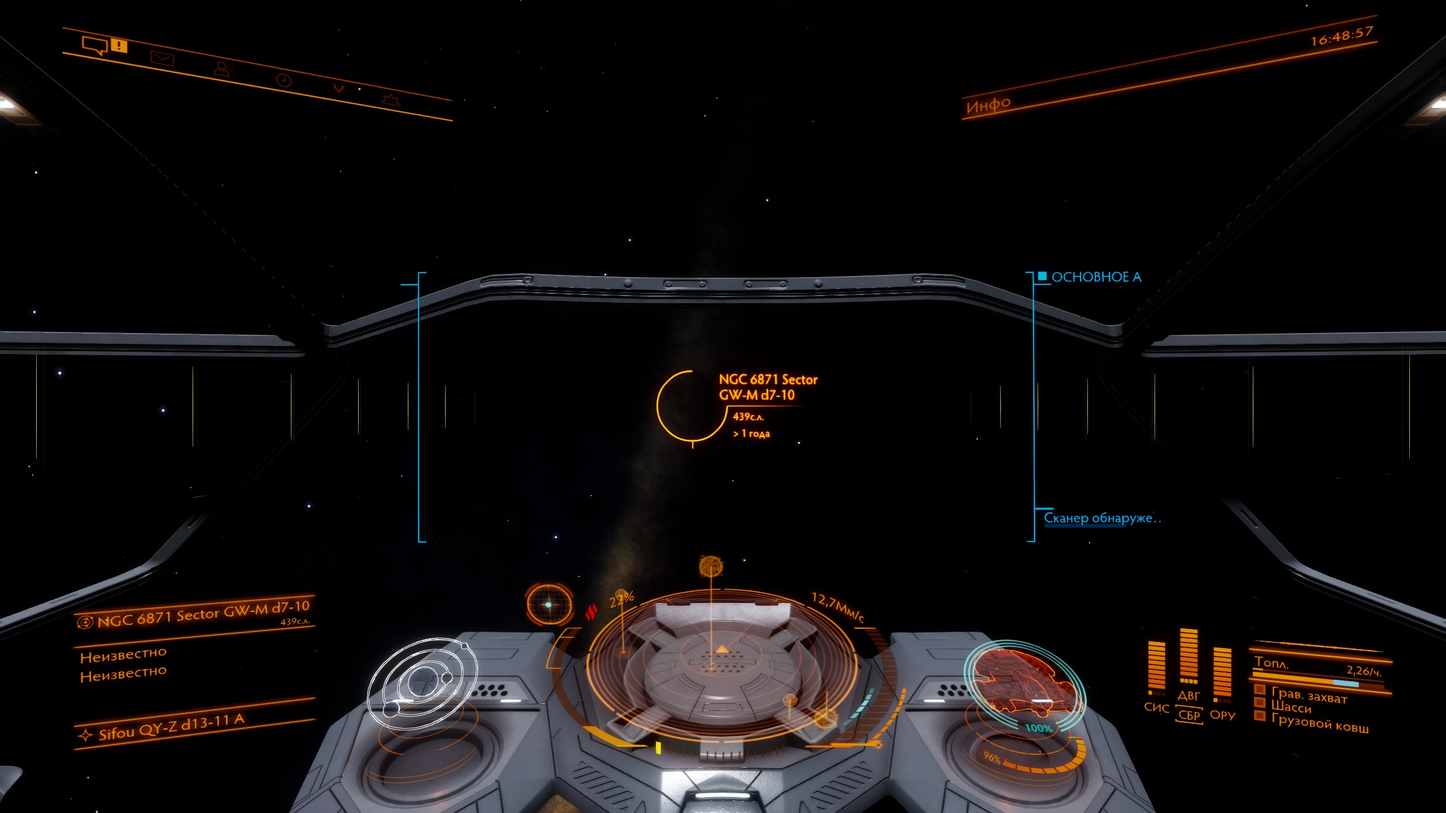core: (287, 541, 1158, 813)
jetcone: (964, 641, 1001, 703), (742, 771, 776, 794)
